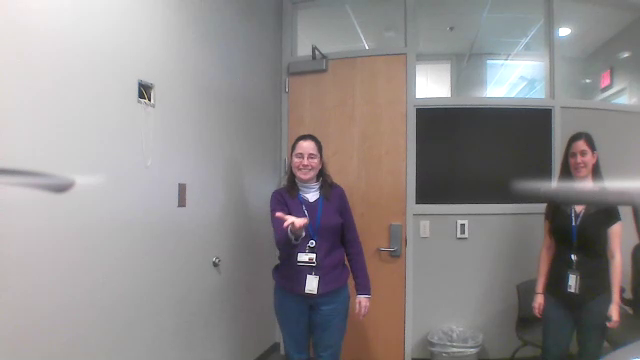land: (270, 207, 310, 231)
